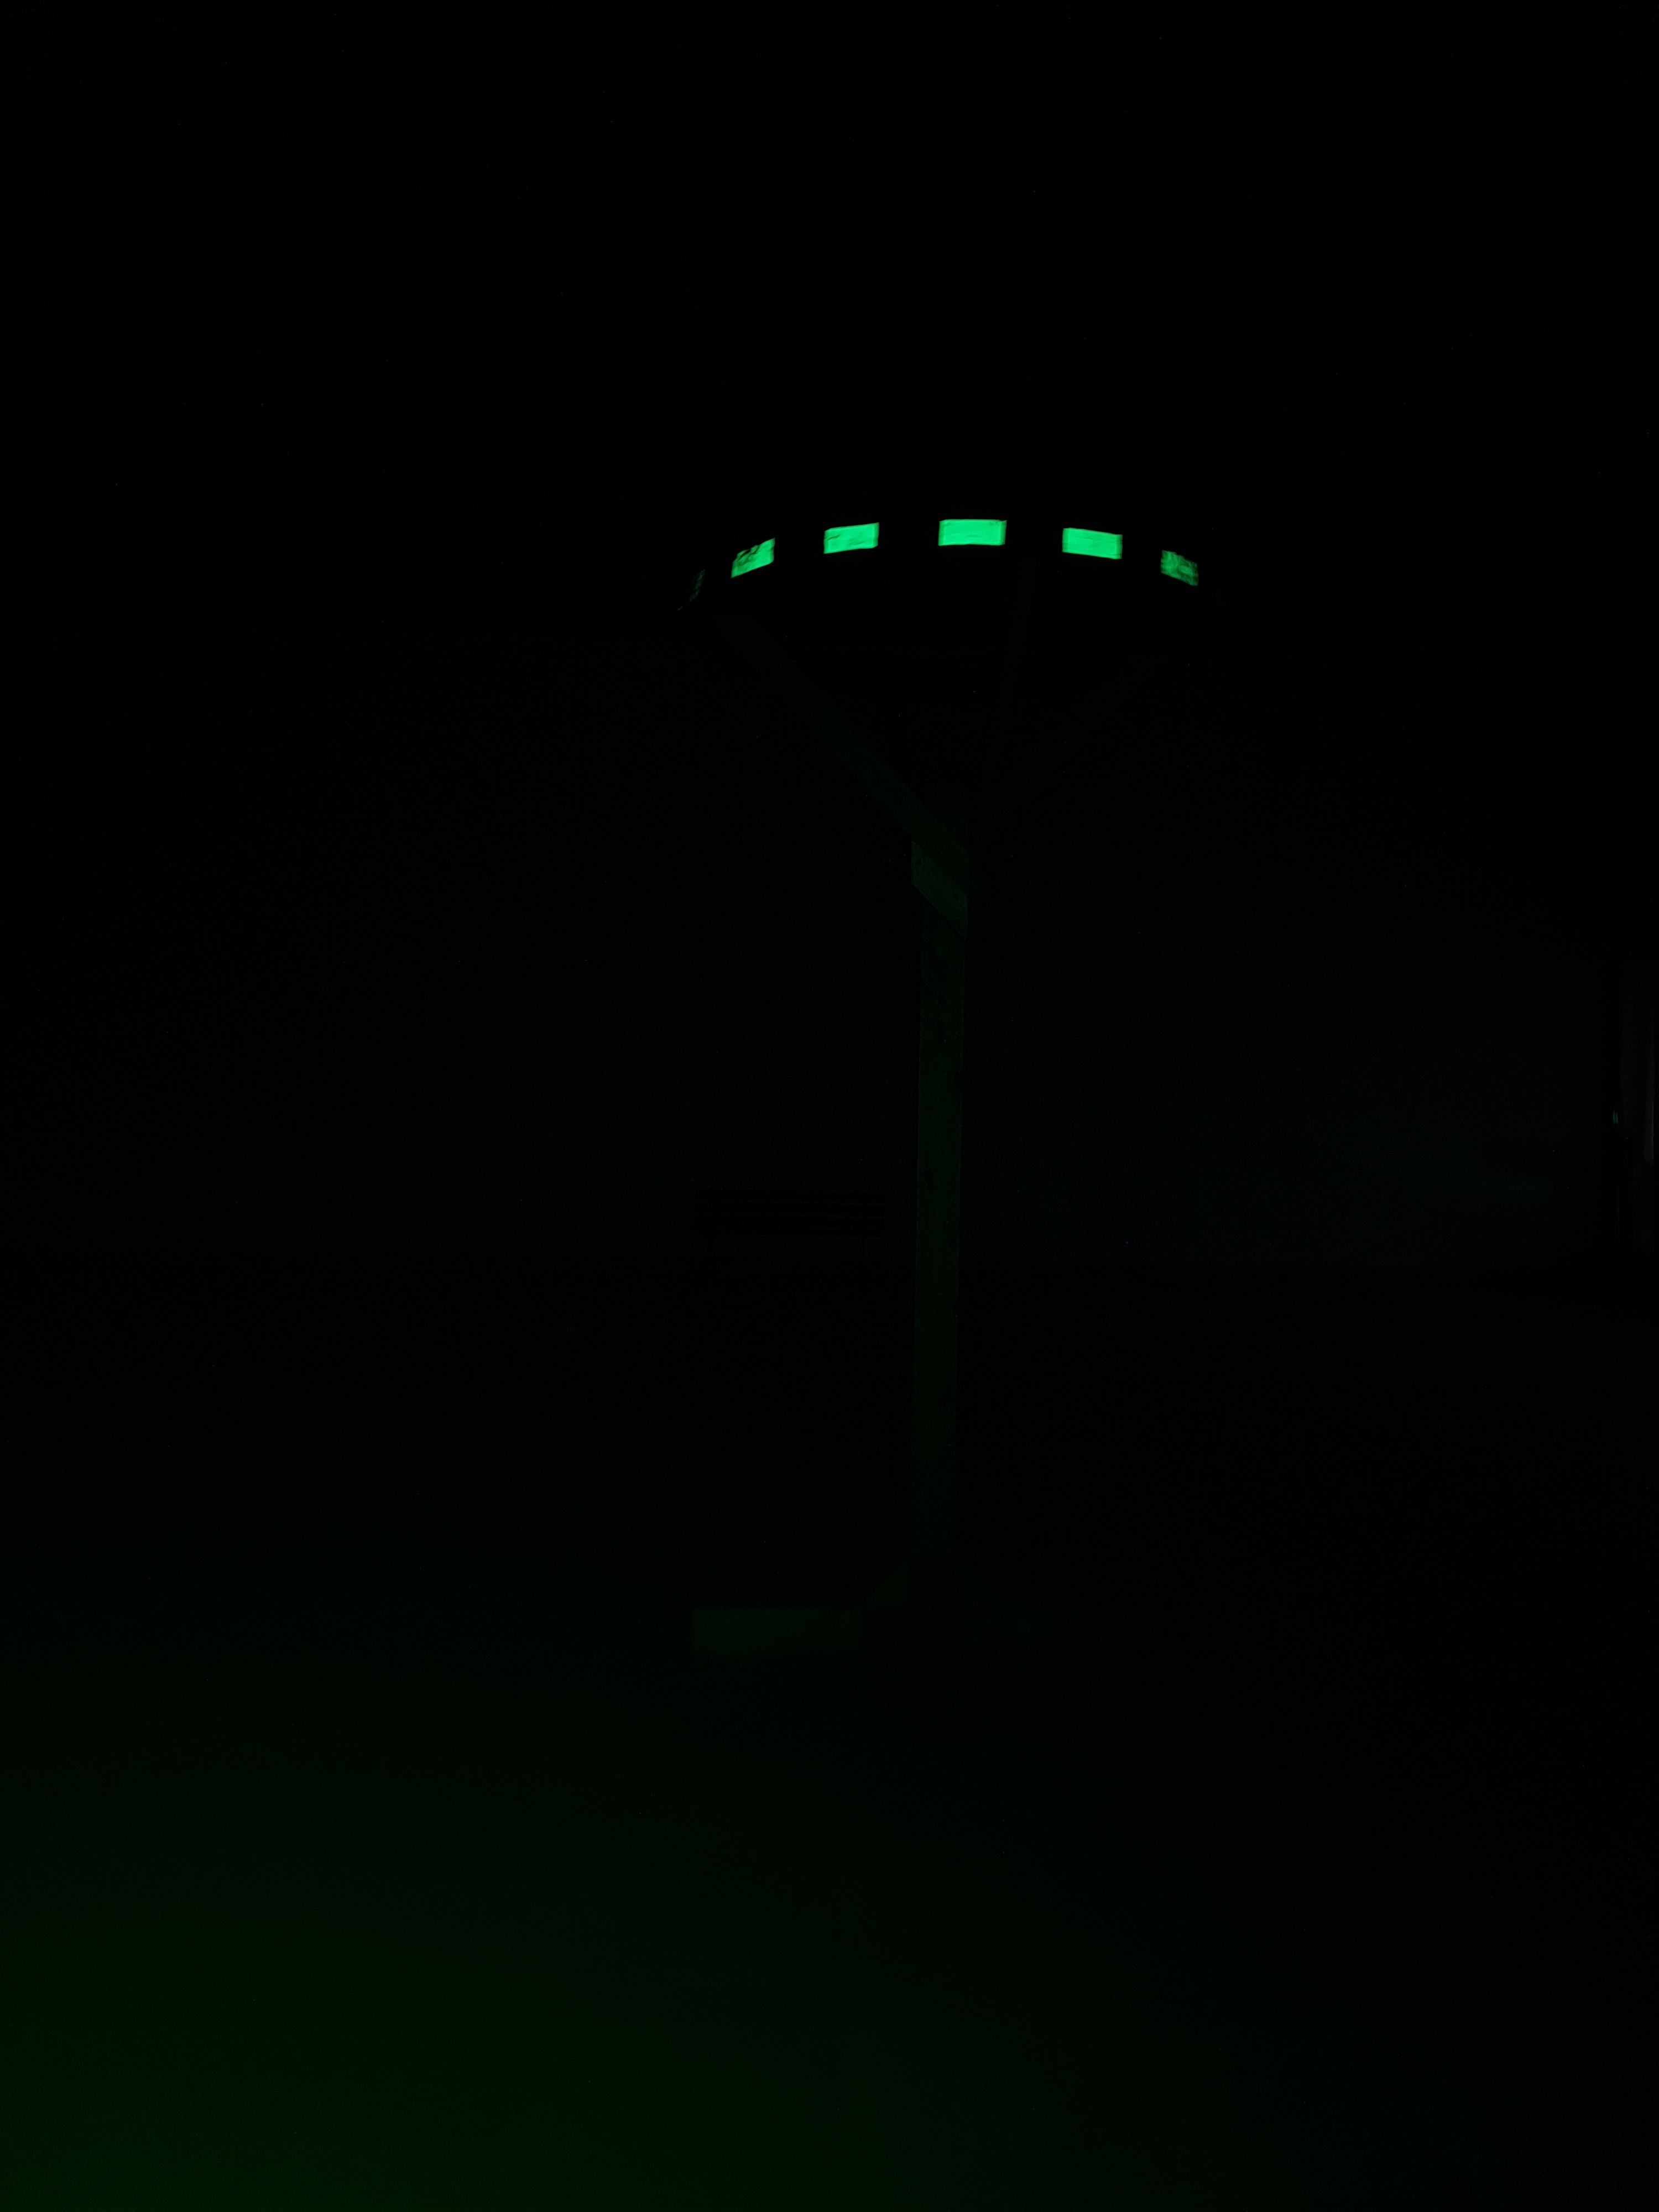hoop: (728, 509, 1201, 589)
